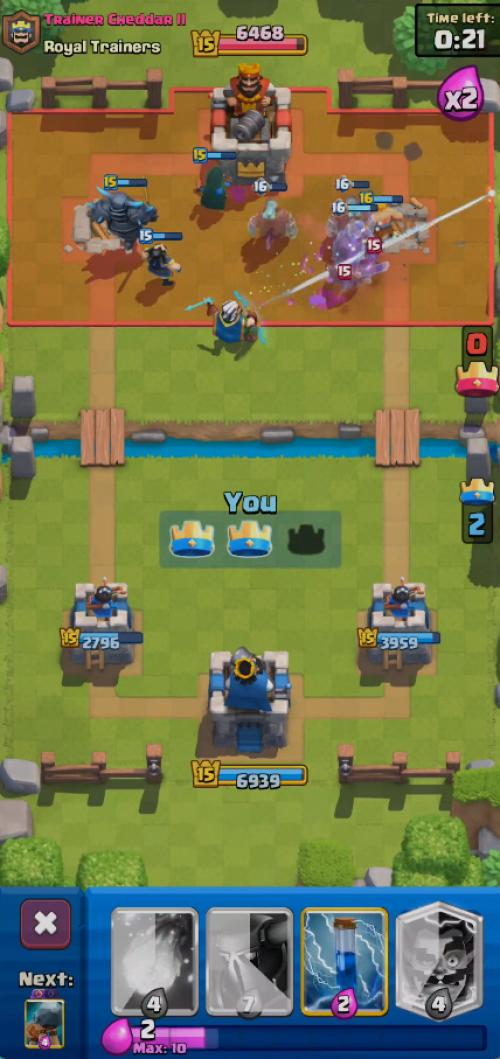Enemy-Bat: (326, 263, 363, 295)
Enemy-KingTower-Activated: (210, 62, 291, 185)
